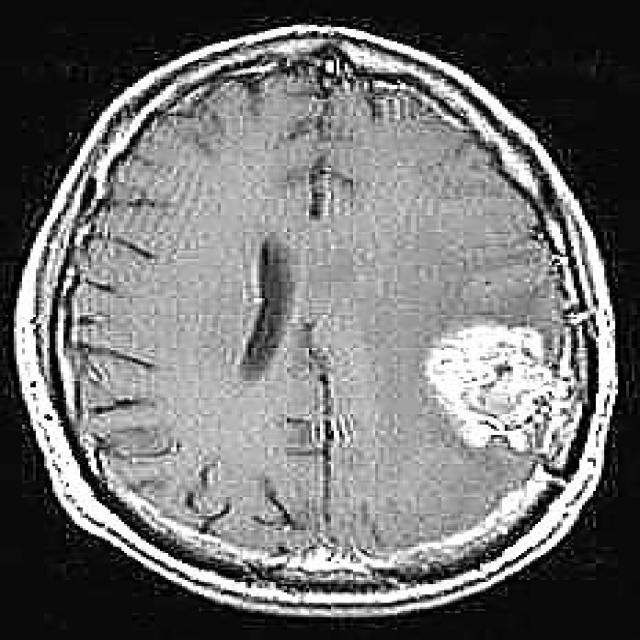Tumor-Cell: (435, 306, 552, 448)
